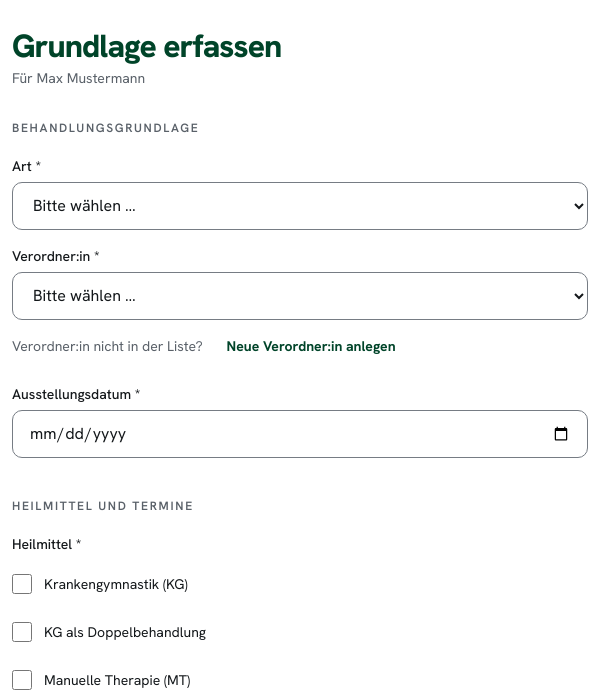
Test: Entwurf ueber den Abstecher zur Verordner-Anlage (echte Routen) › erhaelt Eingaben auch beim Abbrechen der Verordner-Anlage
In the date field labelled "Ausstellungsdatum *": (300, 434) [12,410,588,458], type "2026-03-01"
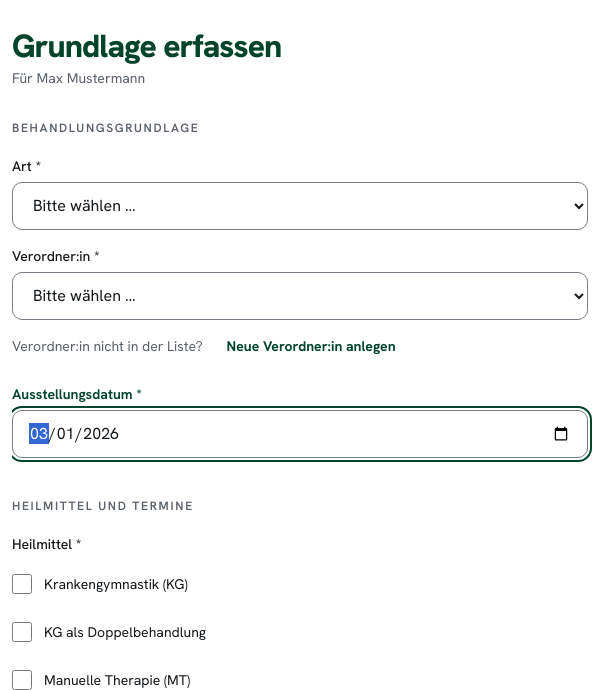
Click the checkbox labelled "Manuelle Therapie (MT)": click(22, 680) [12,670,32,689]
(page scrolled)
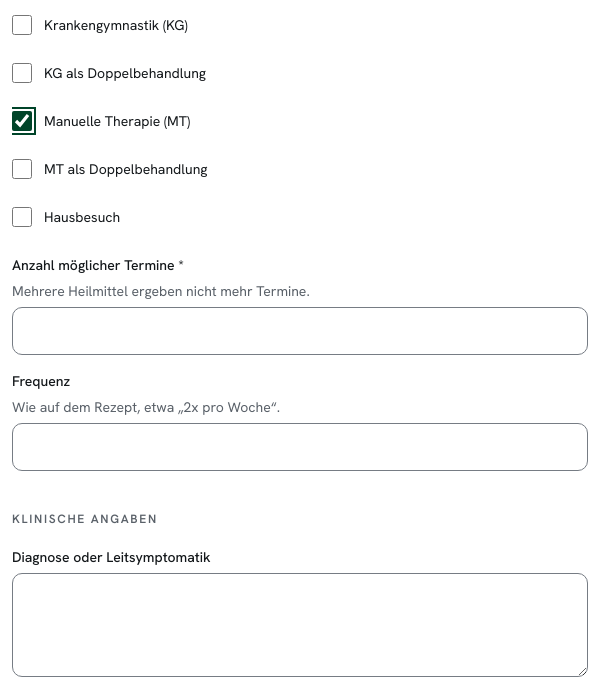
In the field labelled "Anzahl möglicher Termine *": (300, 331) [12,307,588,355], type "6"
(page scrolled)
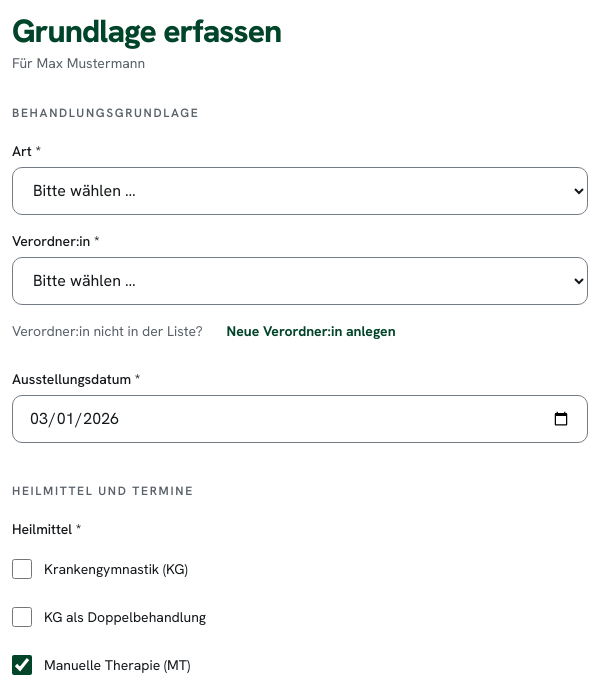
Click the link "Neue Verordner:in anlegen": click(311, 331) [227,322,396,340]
(page scrolled)
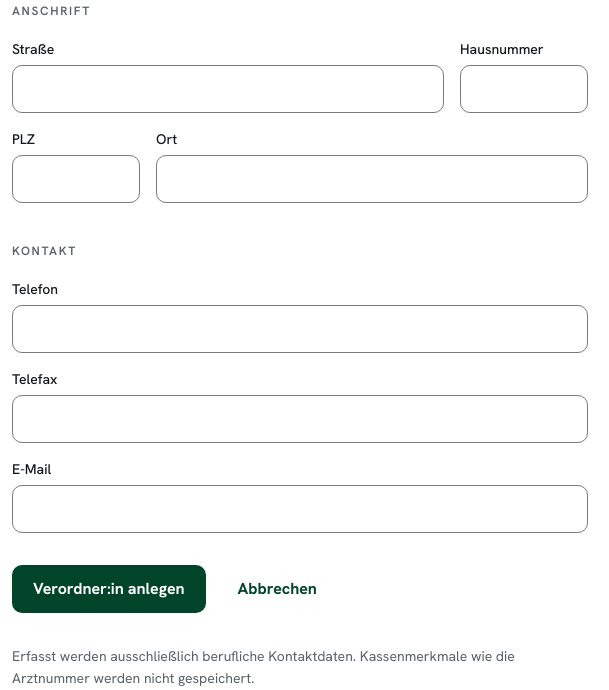
Click the link "Abbrechen": click(277, 588) [238,578,317,599]
(page scrolled)
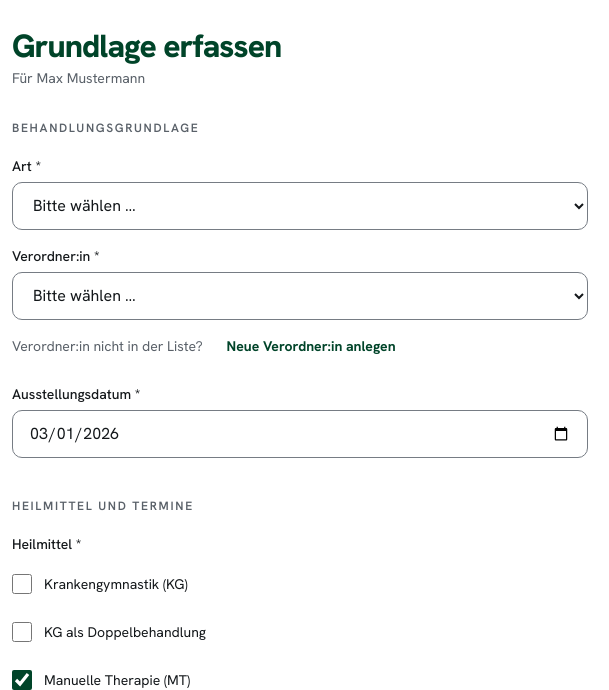
Expected: the heading "Grundlage erfassen" is shown, [12,30,281,64]
Expected: the date field labelled "Ausstellungsdatum *" holds "2026-03-01", [12,410,588,458]
Expected: the checkbox labelled "Manuelle Therapie (MT)" is checked, [12,670,32,689]
